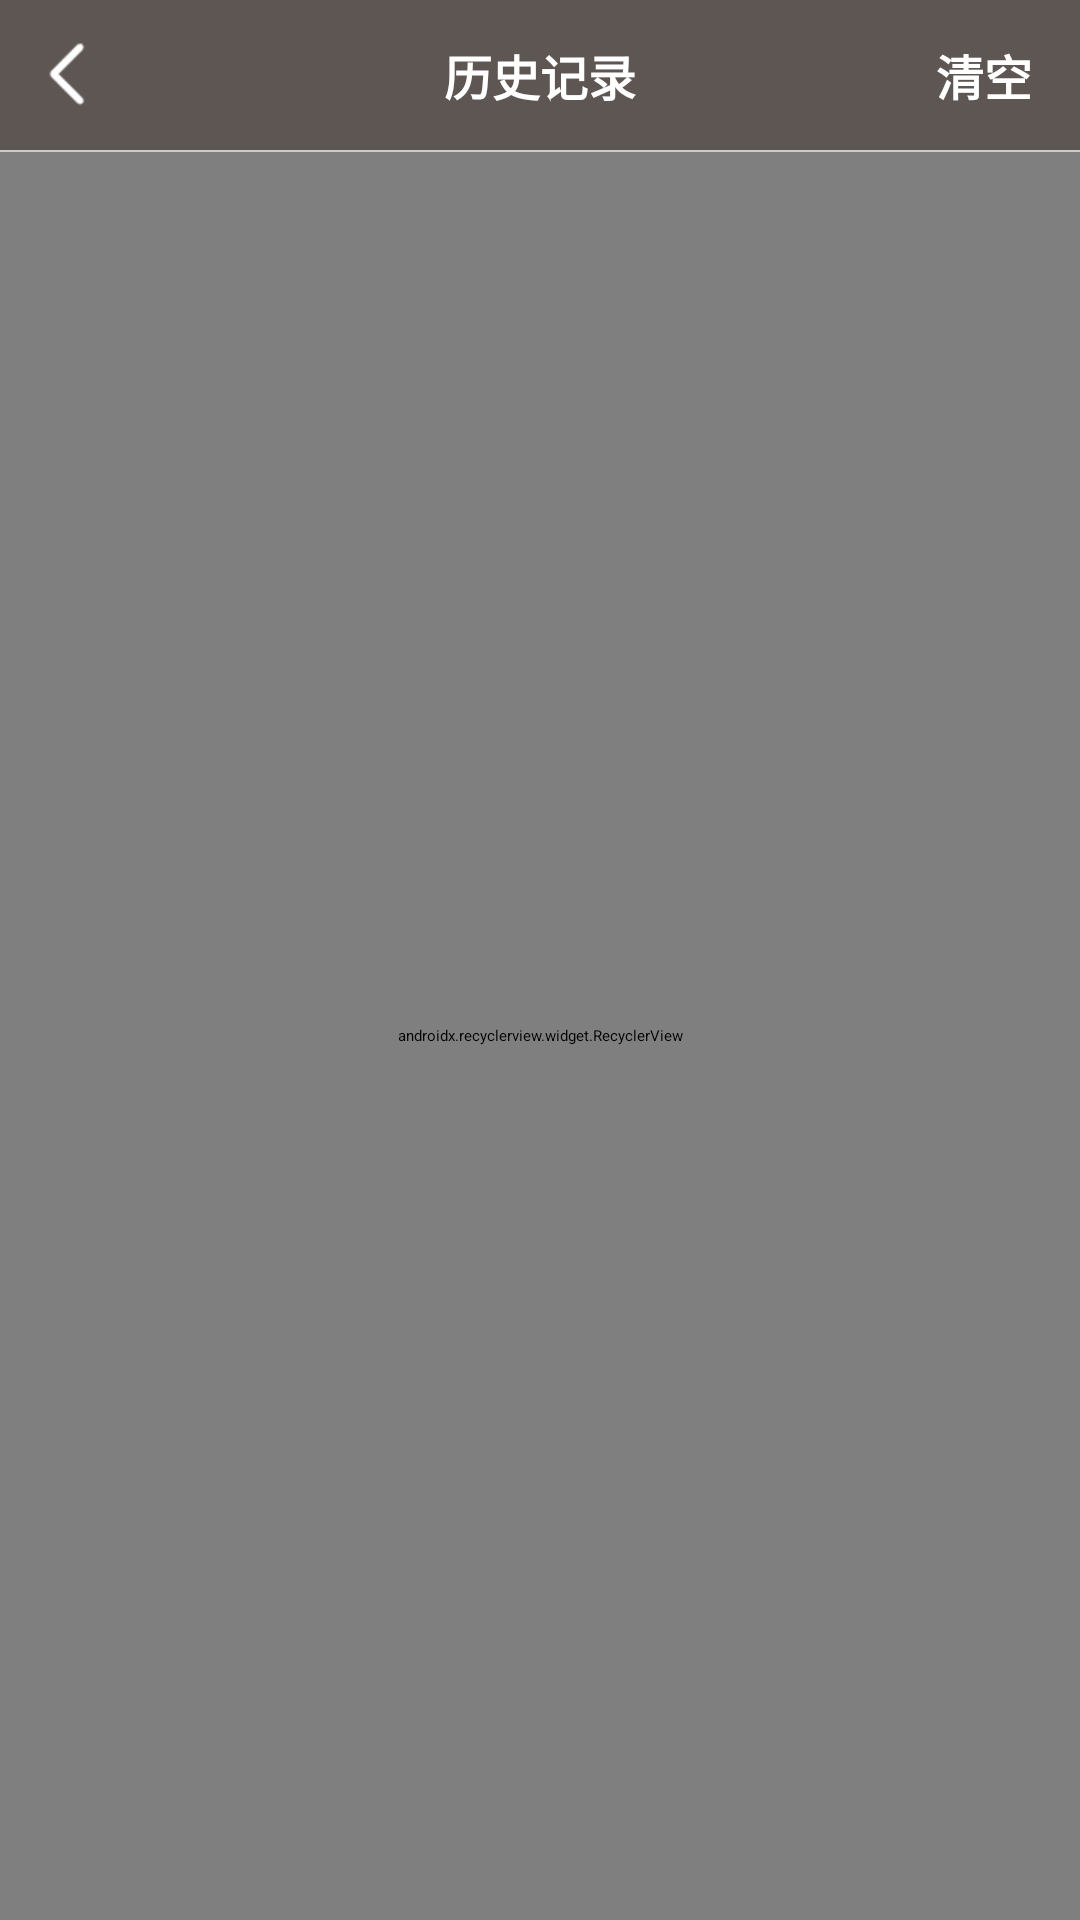

Icons on this 1080px×1920px Android screen, each with its box as (x1, y1, x2, y2):
back: (49, 43, 84, 105)
